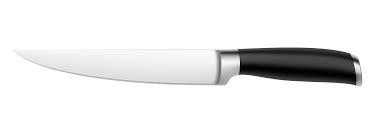Knife: (14, 46, 362, 86)
